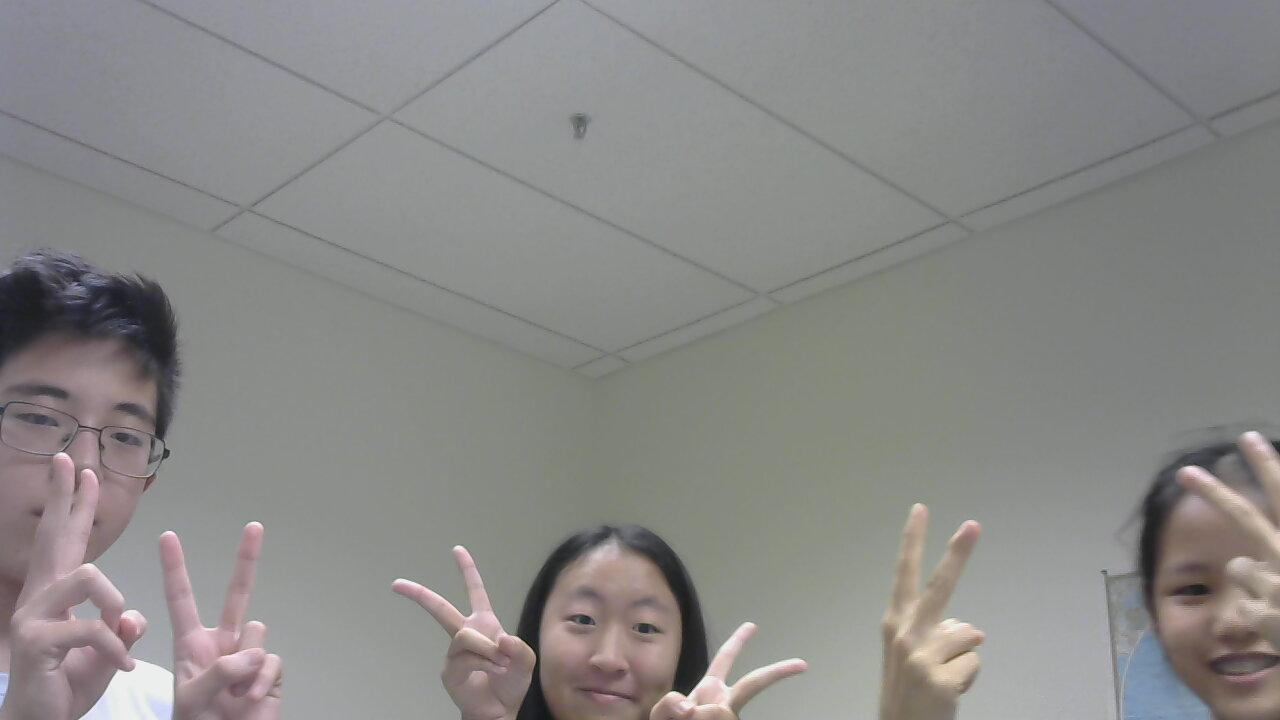peace: (21, 449, 149, 719), (876, 499, 1027, 720), (378, 542, 545, 720), (151, 522, 297, 720), (658, 599, 810, 720)
